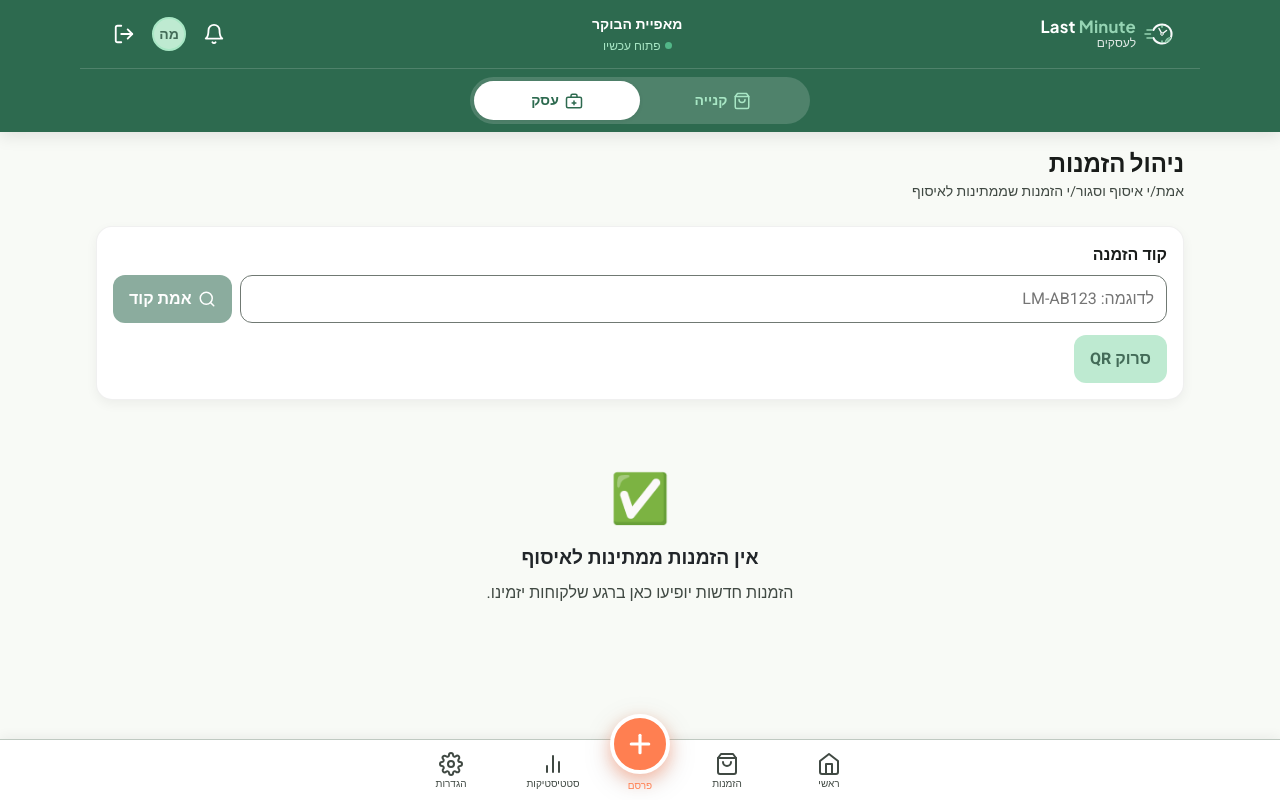
it: B2BOrdersPage — verify by code › completes the order matching a typed code
This screenshot has width=1280, height=800.
In the field labelled "קוד הזמנה": coordinates (703, 299) [240,275,1167,323], type "lm-code5"
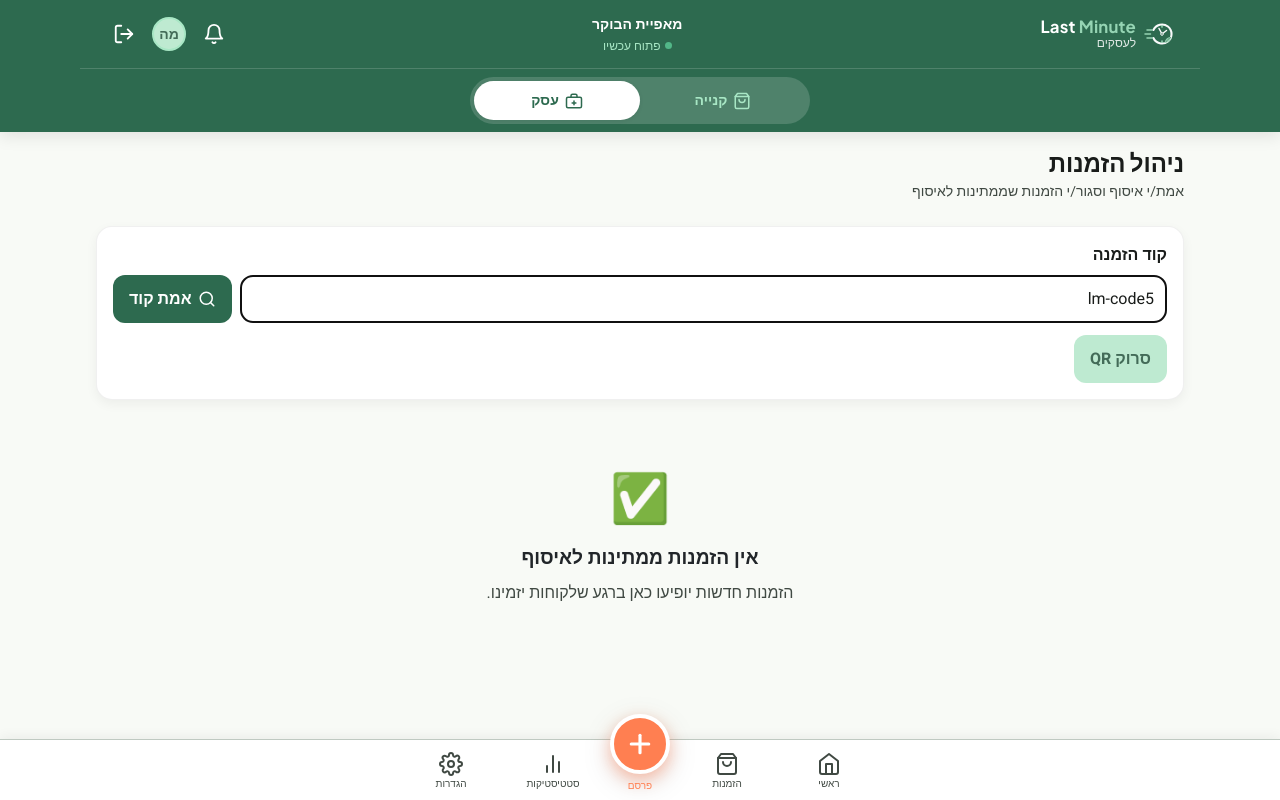
Click the button "אמת קוד": coordinates (172, 299) [113,275,232,323]
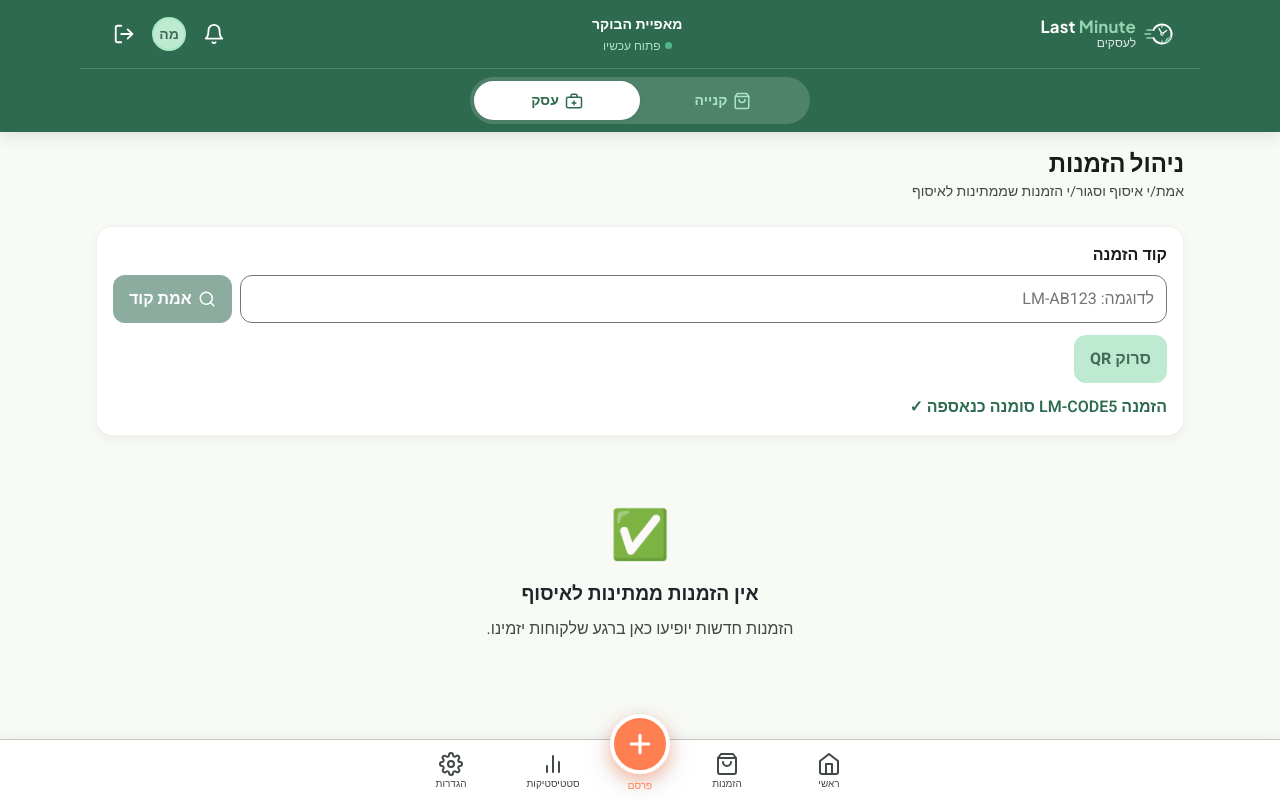
Now the text "הזמנה LM-CODE5 סומנה כנאספה ✓" is shown, box [909,395,1167,419]
